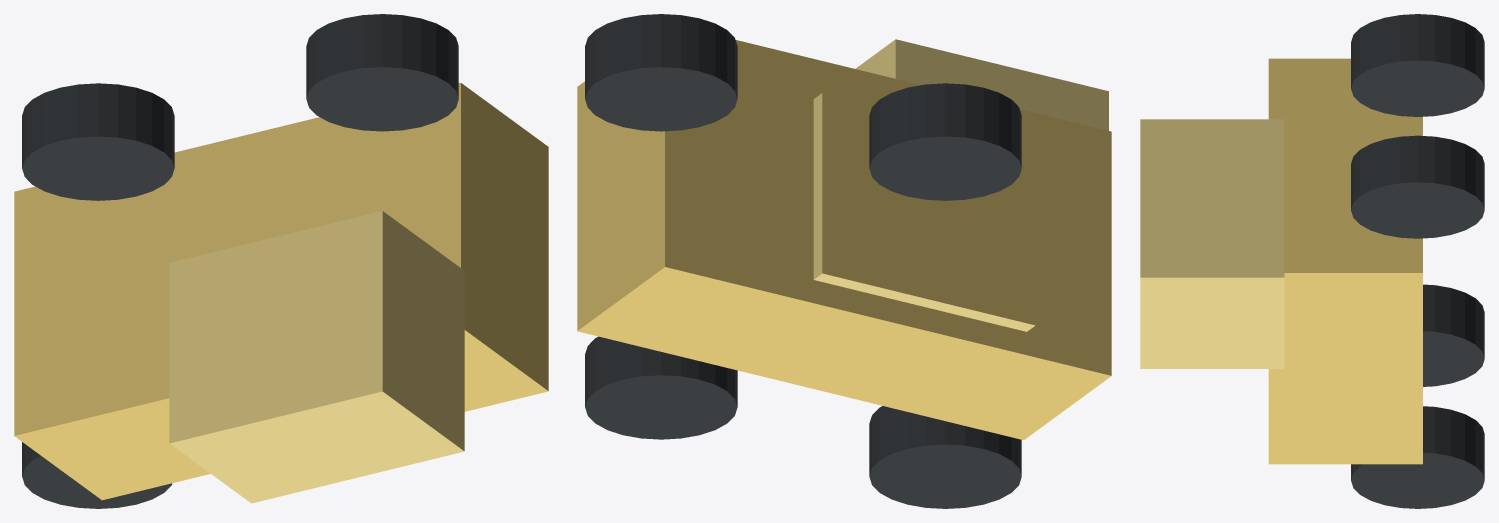
The model's file is small_car.gltf.
The picture shows the model from 3 angles, left to right: view 1: azimuth 30°, elevation 25°; view 2: azimuth 150°, elevation 25°; view 3: azimuth 270°, elevation 25°; orthographic projection. The views are drawn at different scales.
Parts seen in each view (by area): view 1: body, cabin, wheel_-0.28_0.29, wheel_0.28_0.29, wheel_-0.28_-0.29; view 2: body, wheel_0.28_0.29, wheel_-0.28_0.29, cabin, wheel_0.28_-0.29, wheel_-0.28_-0.29; view 3: body, cabin, wheel_-0.28_0.29, wheel_0.28_0.29, wheel_0.28_-0.29, wheel_-0.28_-0.29.
Part boxes in pixels (x1,y1,x2,y2): body: (14, 82, 548, 500); cabin: (169, 211, 464, 503); wheel_-0.28_0.29: (22, 83, 174, 200); wheel_0.28_0.29: (306, 14, 458, 131); wheel_-0.28_-0.29: (22, 442, 172, 508); body: (577, 40, 1111, 440); wheel_0.28_0.29: (585, 14, 737, 131); wheel_-0.28_0.29: (869, 83, 1021, 200); cabin: (813, 39, 1108, 331); wheel_0.28_-0.29: (585, 336, 737, 439); wheel_-0.28_-0.29: (869, 406, 1021, 508); body: (1268, 58, 1422, 464); cabin: (1140, 119, 1284, 368); wheel_-0.28_0.29: (1351, 14, 1484, 116); wheel_0.28_0.29: (1351, 135, 1484, 238); wheel_0.28_-0.29: (1351, 406, 1484, 508); wheel_-0.28_-0.29: (1423, 284, 1484, 386).
Size of the model in its own units: 0.88 by 0.68 by 0.67.
